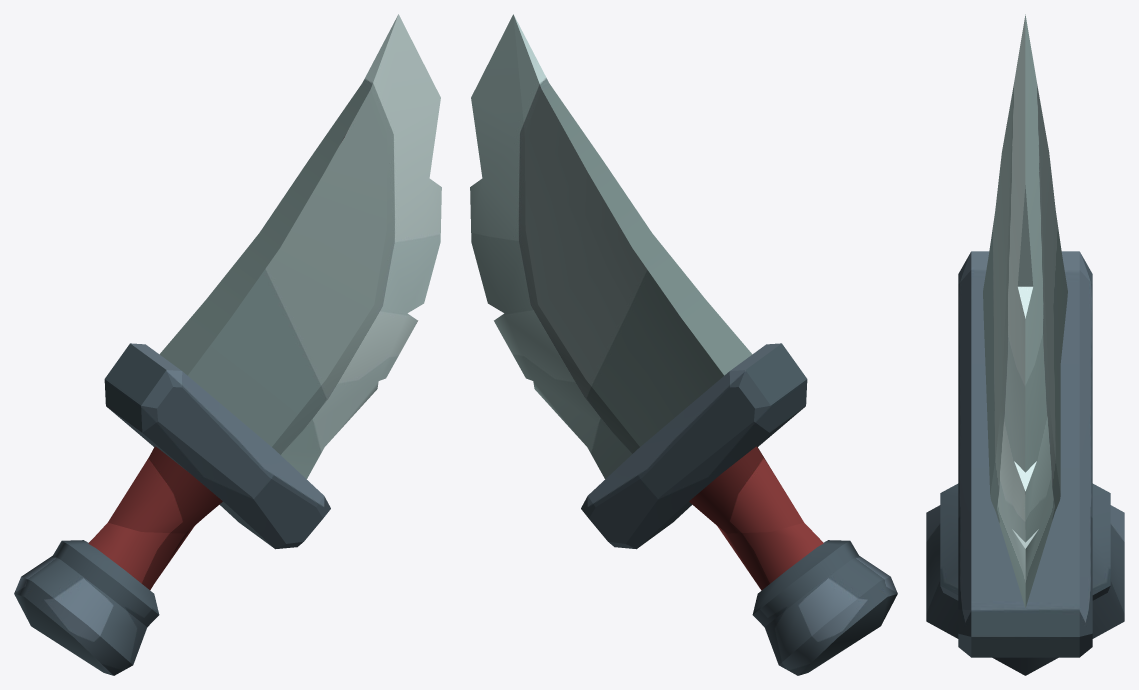
Rendered from Sharp_02.FBX.
3 renders of one model, left to right at view 1: azimuth 30°, elevation 25°; view 2: azimuth 150°, elevation 25°; view 3: azimuth 270°, elevation 25°, orthographic. The views are drawn at different scales.
Visible parts, largest first — view 1: Sharp_02; view 2: Sharp_02; view 3: Sharp_02.
Part boxes in pixels (<box>): Sharp_02: <box>14,14,441,675</box>; Sharp_02: <box>470,14,897,675</box>; Sharp_02: <box>926,14,1124,675</box>.
Size of the model in its own units: 57.64 by 77.44 by 15.94.
